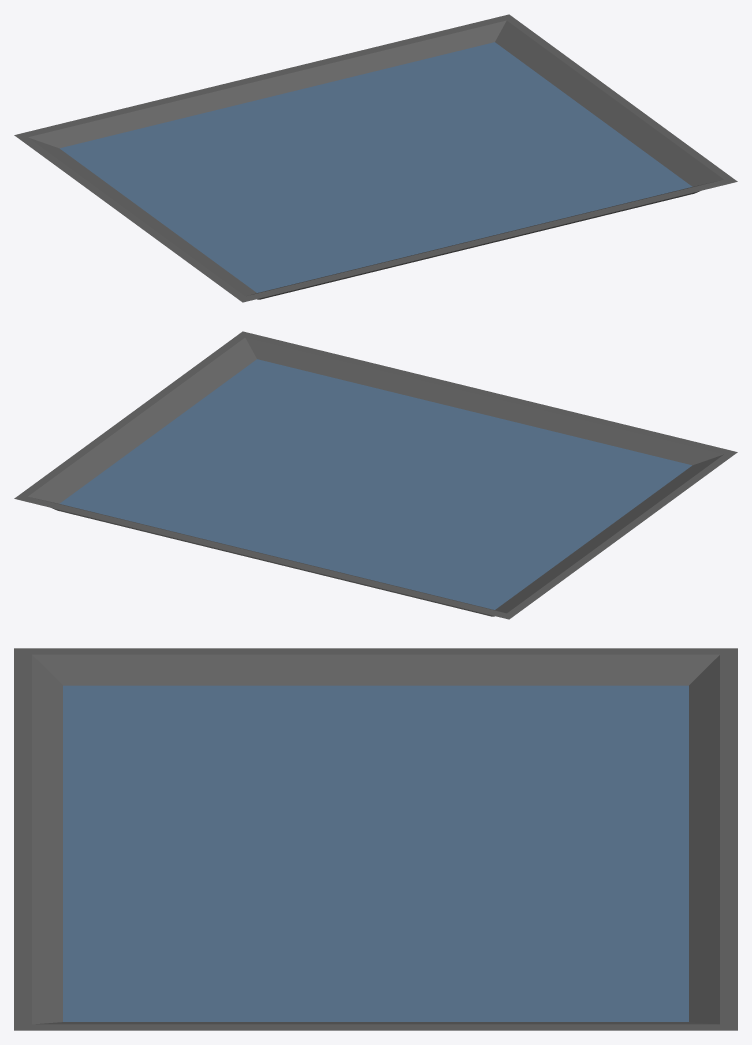
The model's file is SurgicalTray.fbx.
The picture shows the model from 3 angles, top to bottom: view 1: azimuth 30°, elevation 25°; view 2: azimuth 150°, elevation 25°; view 3: azimuth 270°, elevation 25°; orthographic projection. The views are drawn at different scales.
Visible parts, largest first — view 1: SurgicalTray; view 2: SurgicalTray; view 3: SurgicalTray.
Part boxes in pixels (x1,y1,x2,y2): SurgicalTray: [14, 14, 737, 302]; SurgicalTray: [14, 331, 737, 619]; SurgicalTray: [14, 648, 737, 1030].
Size of the model in its own units: 0.55 by 0.0151 by 0.44.
